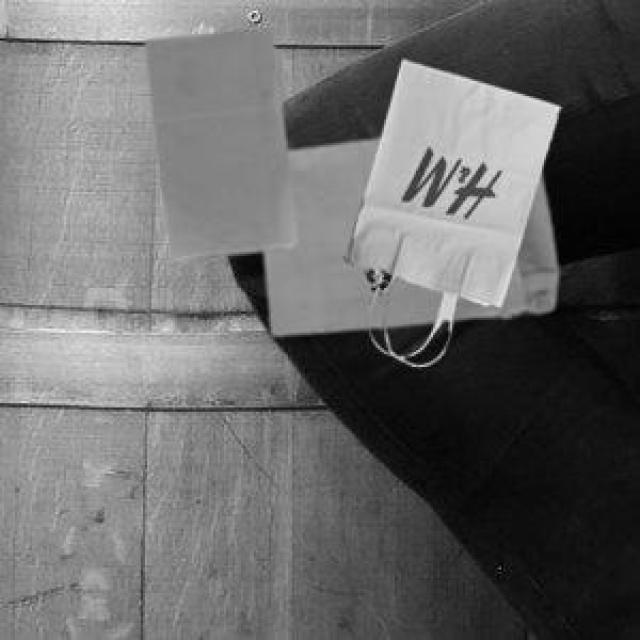paper: (341, 56, 557, 333), (260, 134, 553, 331), (141, 24, 292, 256)
